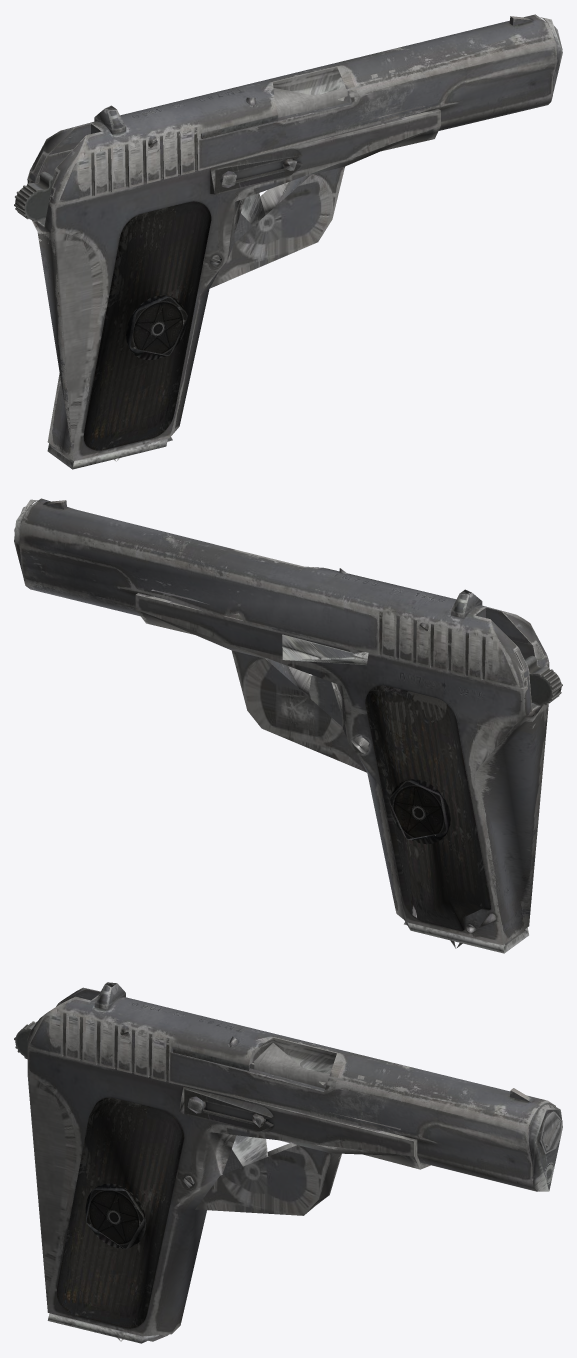
The model's file is tt33_leve.glb.
3 renders of one model, top to bottom at view 1: azimuth 30°, elevation 25°; view 2: azimuth 150°, elevation 25°; view 3: azimuth 330°, elevation 25°, orthographic.
Visible parts, largest first — view 1: tt33; view 2: tt33; view 3: tt33.
Part boxes in pixels (left/top/right/bottom): tt33: left=14, top=14, right=562, bottom=469; tt33: left=14, top=498, right=562, bottom=953; tt33: left=14, top=982, right=562, bottom=1343.
Bounding box in the file's own units: 0.2007 × 0.1284 × 0.0288.
1 material, 1 textured.
